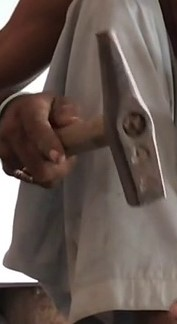hammer: (21, 27, 170, 209)
